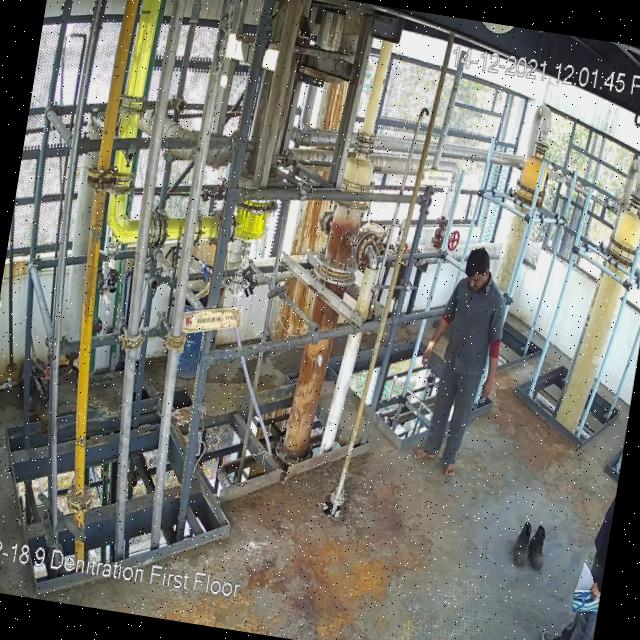boots: (509, 518, 538, 570), (526, 524, 552, 570)
no-boots: (410, 444, 437, 462), (440, 459, 459, 481)
